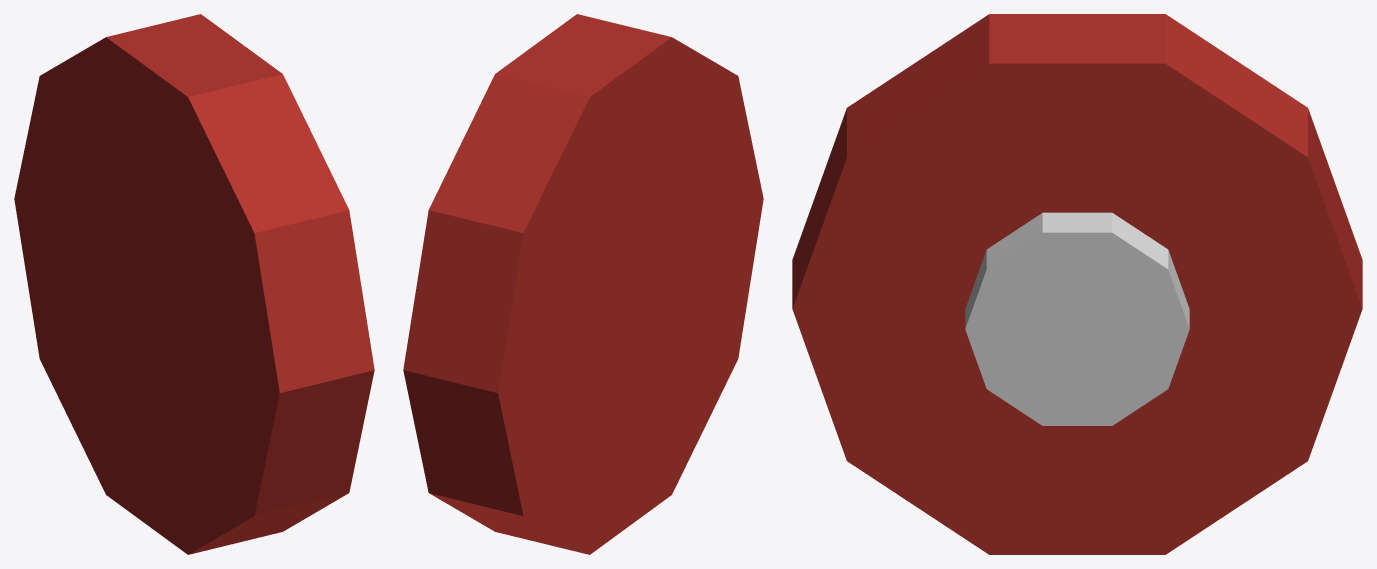
File: SM_FireAlarm_01.glb
The picture shows the model from 3 angles, left to right: view 1: azimuth 30°, elevation 25°; view 2: azimuth 150°, elevation 25°; view 3: azimuth 270°, elevation 25°; orthographic projection. The views are drawn at different scales.
Parts seen in each view (by area): view 1: SM_FireAlarm_01; view 2: SM_FireAlarm_01; view 3: SM_FireAlarm_01.
Part boxes in pixels (x1,y1,x2,y2): SM_FireAlarm_01: (14, 14, 374, 554); SM_FireAlarm_01: (403, 14, 763, 554); SM_FireAlarm_01: (792, 14, 1362, 554).
Size of the model in its own units: 0.093 by 0.3057 by 0.3215.
1 material, 1 textured.
